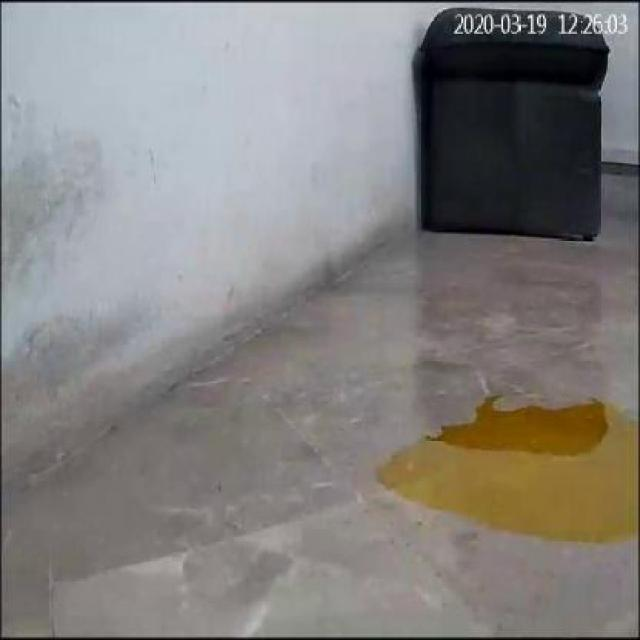spill: (382, 398, 638, 537)
